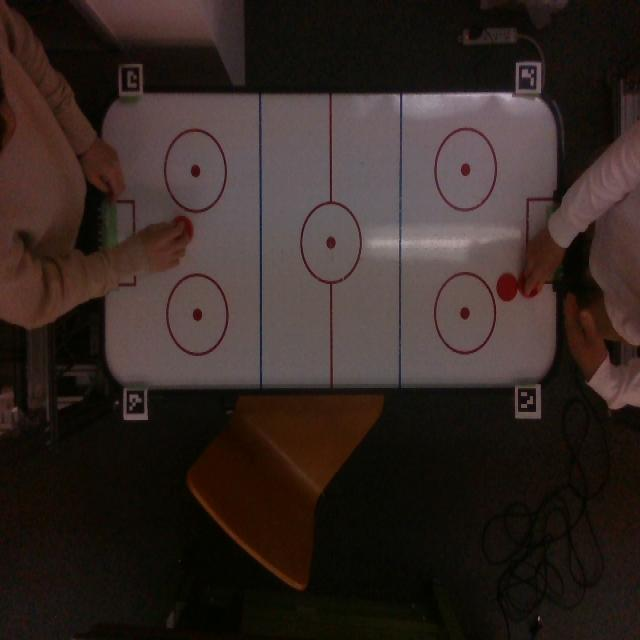puck: (496, 273, 517, 302)
